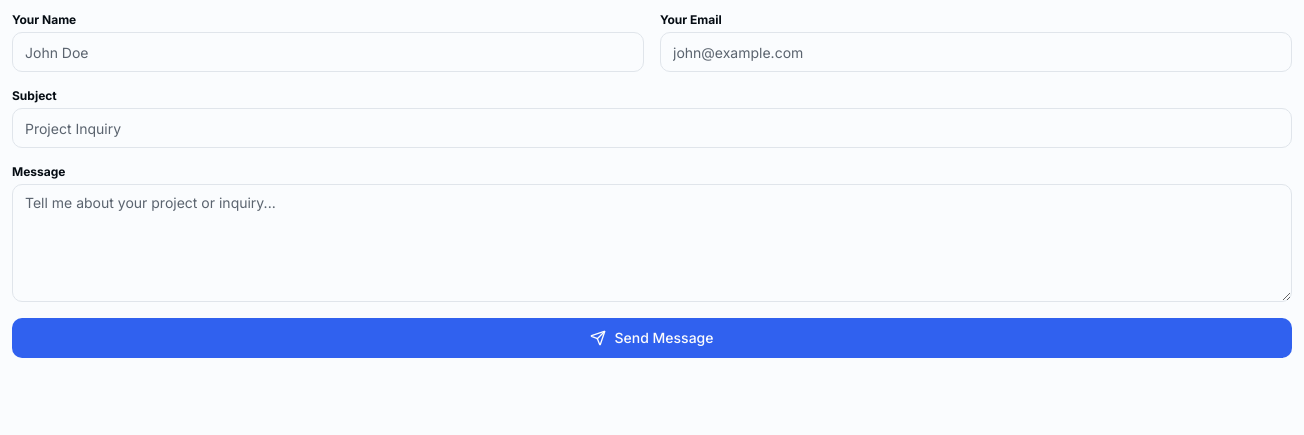
ContactForm › displays error for invalid email
The width and height of the screenshot is (1304, 435).
Type "invalid-email" into the field labelled "Your Email". click: (976, 52)
box: [660, 32, 1292, 72]
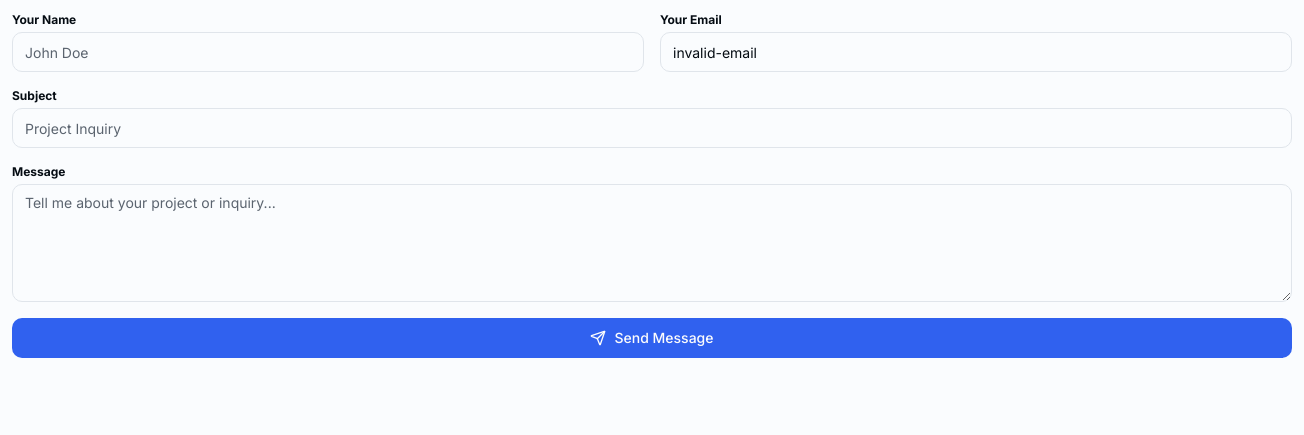
Click the button "Send Message". click: (652, 338)
box: [12, 318, 1292, 358]
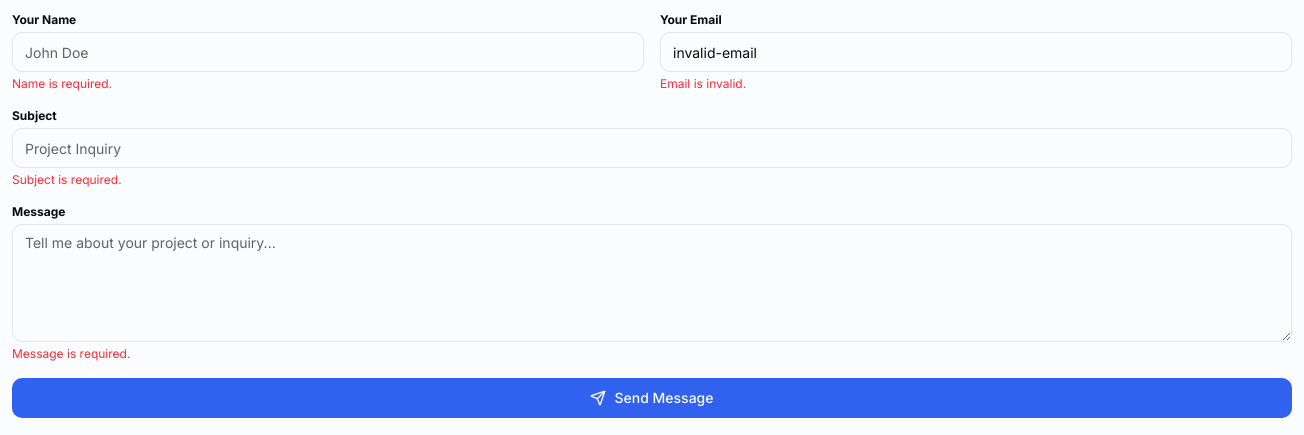
Now the text "Email is invalid." is shown, box [660, 76, 746, 91]
